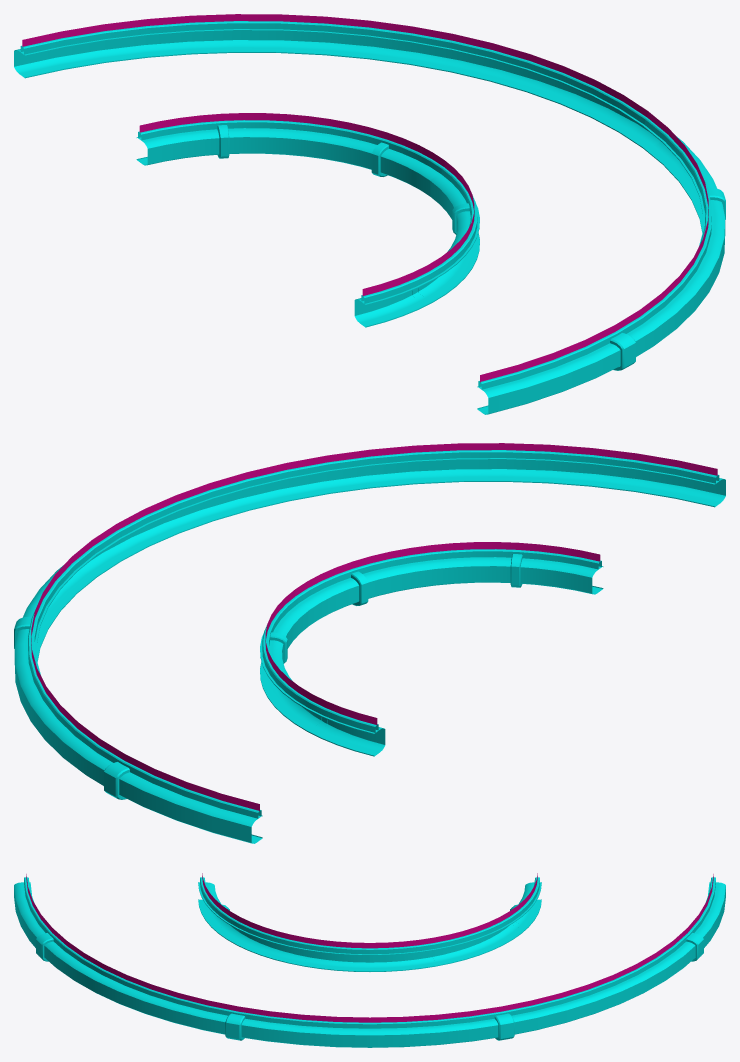
Rendered from Mur_V_180.fbx.
3 views of the same model, one above another, from view 1: azimuth 30°, elevation 25°; view 2: azimuth 150°, elevation 25°; view 3: azimuth 270°, elevation 25° (orthographic). The views are drawn at different scales.
Visible parts, largest first — view 1: polySurface1121; view 2: polySurface1121; view 3: polySurface1121.
Boxes of the visible parts, x1,y1,x2,y2 form: polySurface1121: [14, 14, 725, 414]; polySurface1121: [14, 443, 725, 843]; polySurface1121: [14, 873, 725, 1047].
Bounding box in the file's own units: 26.6 × 2.5 × 53.2.
